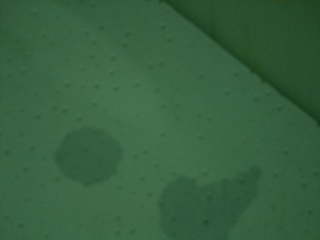Water_detected: (55, 129, 110, 185), (168, 182, 217, 233)
